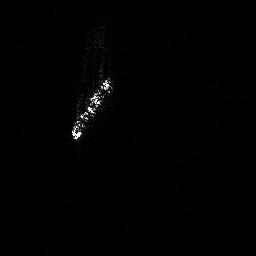ship: (70, 21, 114, 140)
